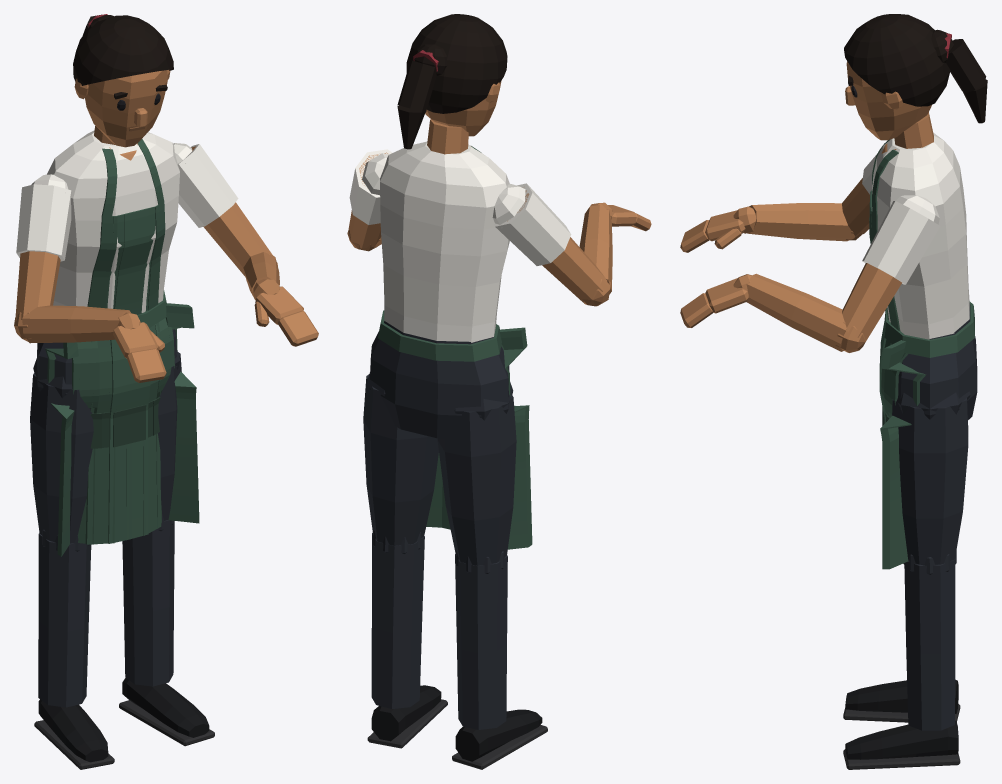
Rendered from person_barista.glb.
The picture shows the model from 3 angles, left to right: view 1: azimuth 30°, elevation 25°; view 2: azimuth 150°, elevation 25°; view 3: azimuth 270°, elevation 25°; orthographic projection.
Parts seen in each view (by area): view 1: Hips, Chest, Head, Shin_R, Shin_L, Thigh_R, UpperArm_R, UpperArm_L, Foot_L, Forearm_R, Foot_R, Hand_L (+3 smaller); view 2: Chest, Hips, Thigh_R, Head, Shin_R, Shin_L, Thigh_L, UpperArm_R, Foot_R, UpperArm_L, Foot_L, Forearm_R (+2 smaller); view 3: Chest, Head, Hips, Thigh_L, Shin_L, UpperArm_L, Foot_L, Forearm_L, Forearm_R, Foot_R, Hand_R, Hand_L (+2 smaller).
Part boxes in pixels (x1=…): Hips: x1=37, y1=290, x2=199, y2=556; Chest: x1=47, y1=130, x2=179, y2=314; Head: x1=73, y1=14, x2=173, y2=147; Shin_R: x1=38, y1=529, x2=91, y2=707; Shin_L: x1=122, y1=515, x2=174, y2=686; Thigh_R: x1=30, y1=358, x2=93, y2=543; UpperArm_R: x1=15, y1=174, x2=71, y2=321; UpperArm_L: x1=173, y1=143, x2=272, y2=276; Foot_L: x1=119, y1=677, x2=214, y2=746; Forearm_R: x1=14, y1=305, x2=130, y2=343; Foot_R: x1=34, y1=699, x2=114, y2=769; Hand_L: x1=253, y1=279, x2=318, y2=346; Chest: x1=380, y1=141, x2=509, y2=342; Hips: x1=369, y1=310, x2=532, y2=549; Thigh_R: x1=437, y1=382, x2=516, y2=565; Head: x1=397, y1=14, x2=507, y2=149; Shin_R: x1=455, y1=550, x2=507, y2=729; Shin_L: x1=371, y1=529, x2=424, y2=708; Thigh_L: x1=363, y1=372, x2=438, y2=545; UpperArm_R: x1=492, y1=183, x2=607, y2=302; Foot_R: x1=452, y1=709, x2=547, y2=769; UpperArm_L: x1=348, y1=149, x2=392, y2=248; Foot_L: x1=367, y1=685, x2=447, y2=748; Forearm_R: x1=579, y1=205, x2=612, y2=306; Chest: x1=869, y1=132, x2=969, y2=339; Head: x1=844, y1=14, x2=987, y2=140; Hips: x1=879, y1=301, x2=977, y2=569; Thigh_L: x1=892, y1=391, x2=970, y2=564; Shin_L: x1=903, y1=550, x2=956, y2=730; UpperArm_L: x1=842, y1=195, x2=940, y2=340; Foot_L: x1=843, y1=720, x2=960, y2=769; Forearm_L: x1=746, y1=273, x2=865, y2=352; Forearm_R: x1=747, y1=203, x2=861, y2=241; Foot_R: x1=843, y1=679, x2=960, y2=722; Hand_R: x1=680, y1=206, x2=755, y2=252; Hand_L: x1=680, y1=274, x2=751, y2=327.
Size of the model in its own units: 0.602 by 1.59 by 0.6144.
